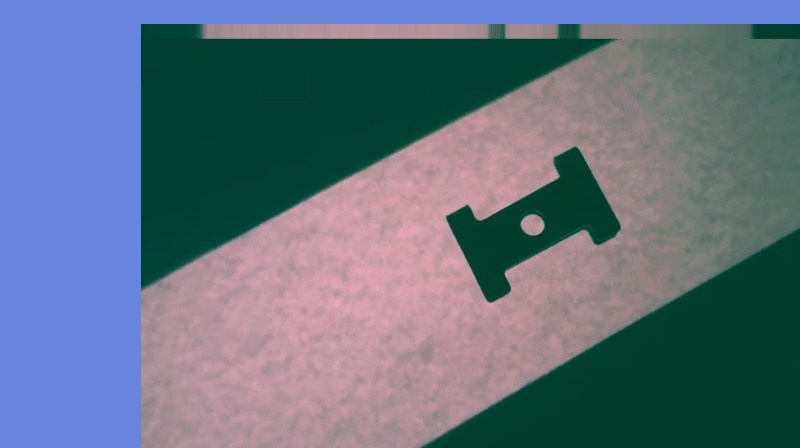O002: (442, 143, 619, 303)
